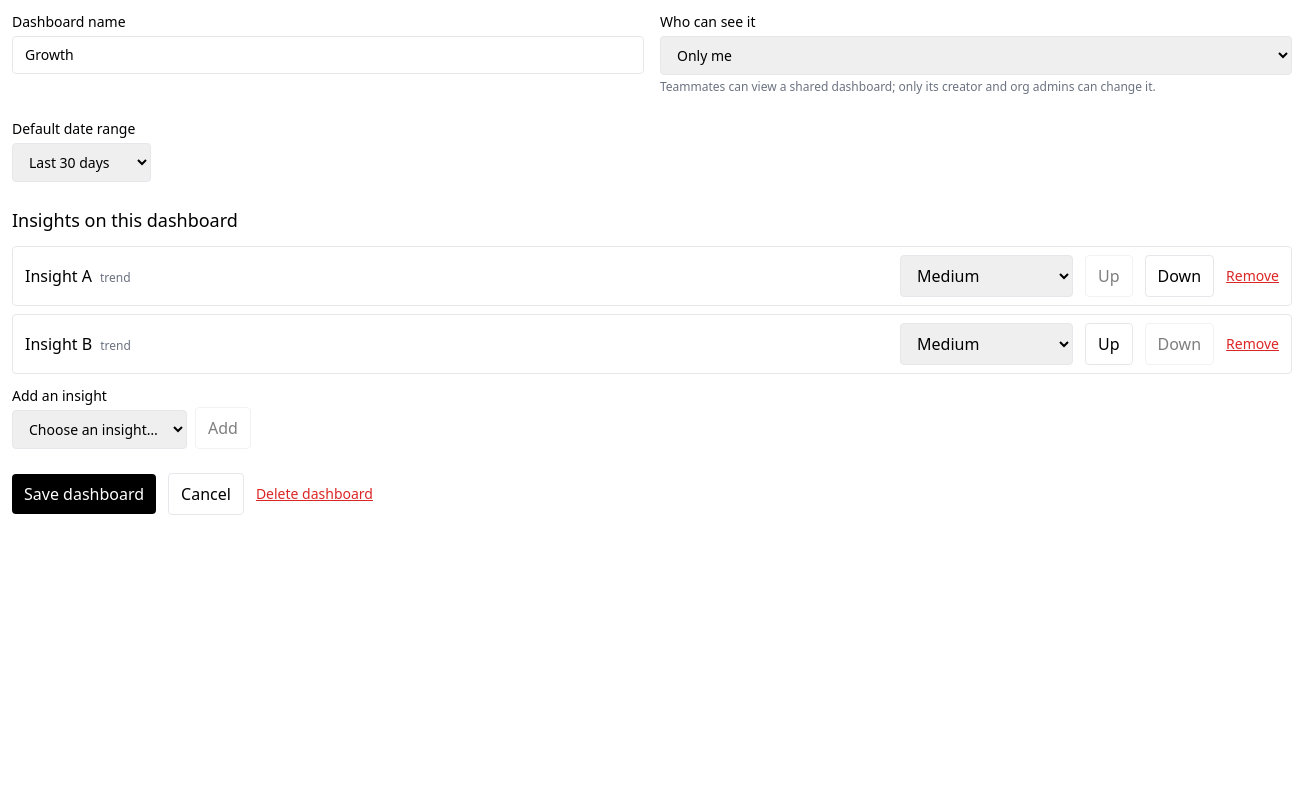
Test: DashboardEditor › with nothing changed it says so and sends nothing
The image size is (1304, 812).
What coordinates should you click on to do the following:
click the button "Save dashboard"
I would click on:
 (84, 494)
Its box is [12, 474, 156, 514].
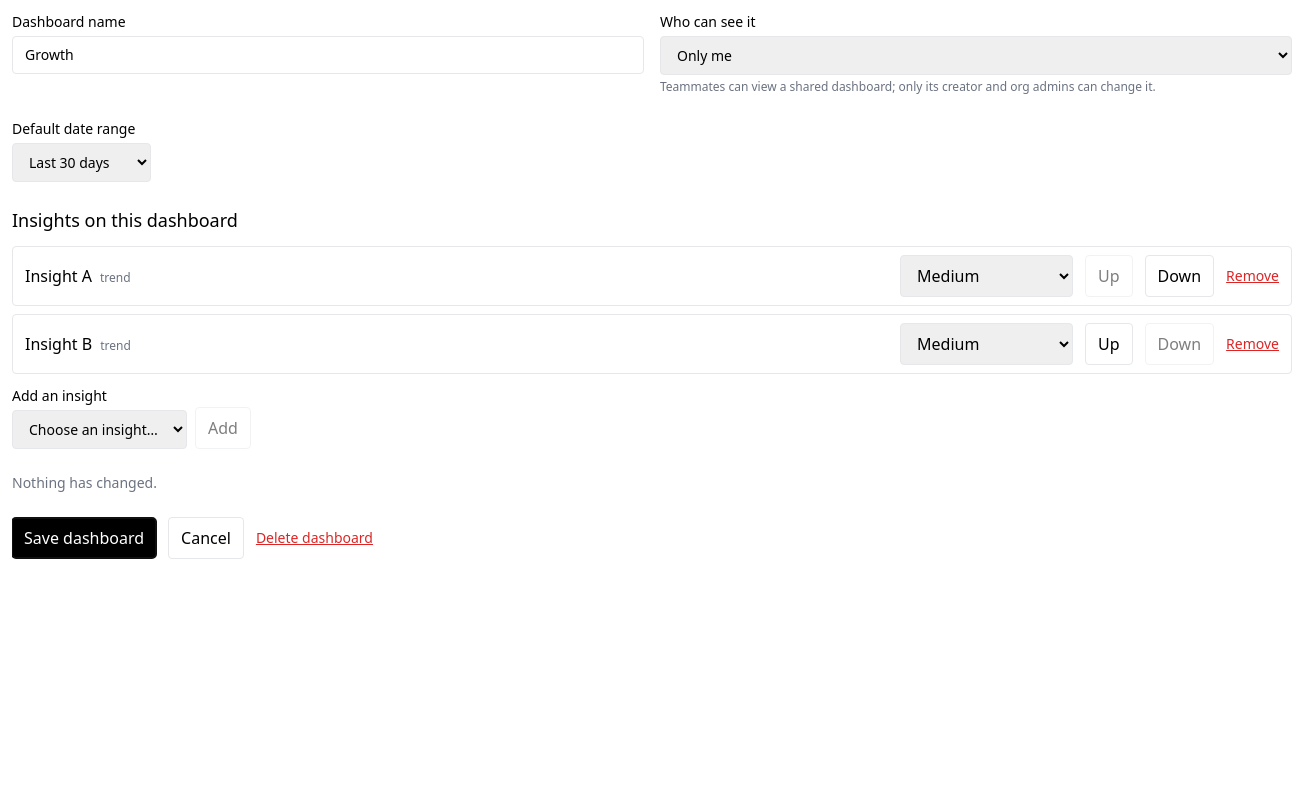
expect the text "Nothing has changed." is shown: met, box [12, 473, 157, 492]
